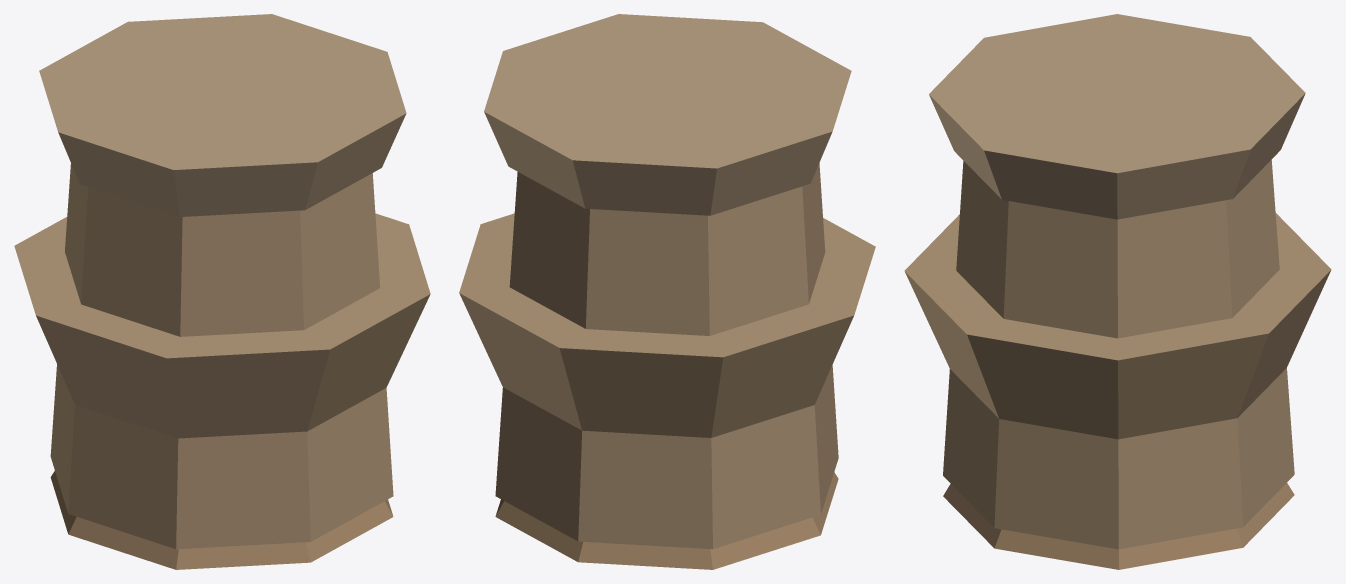
Rendered from clay_pot_v3.glb.
3 views of the same model, side by side, from view 1: azimuth 30°, elevation 25°; view 2: azimuth 150°, elevation 25°; view 3: azimuth 270°, elevation 25° (orthographic).
Parts seen in each view (by area): view 1: world; view 2: world; view 3: world.
Part boxes in pixels (x1,y1,x2,y2): world: (14, 14, 430, 569); world: (459, 14, 875, 569); world: (904, 14, 1331, 569).
Bounding box in the file's own units: 0.9603 × 1 × 0.9603.
